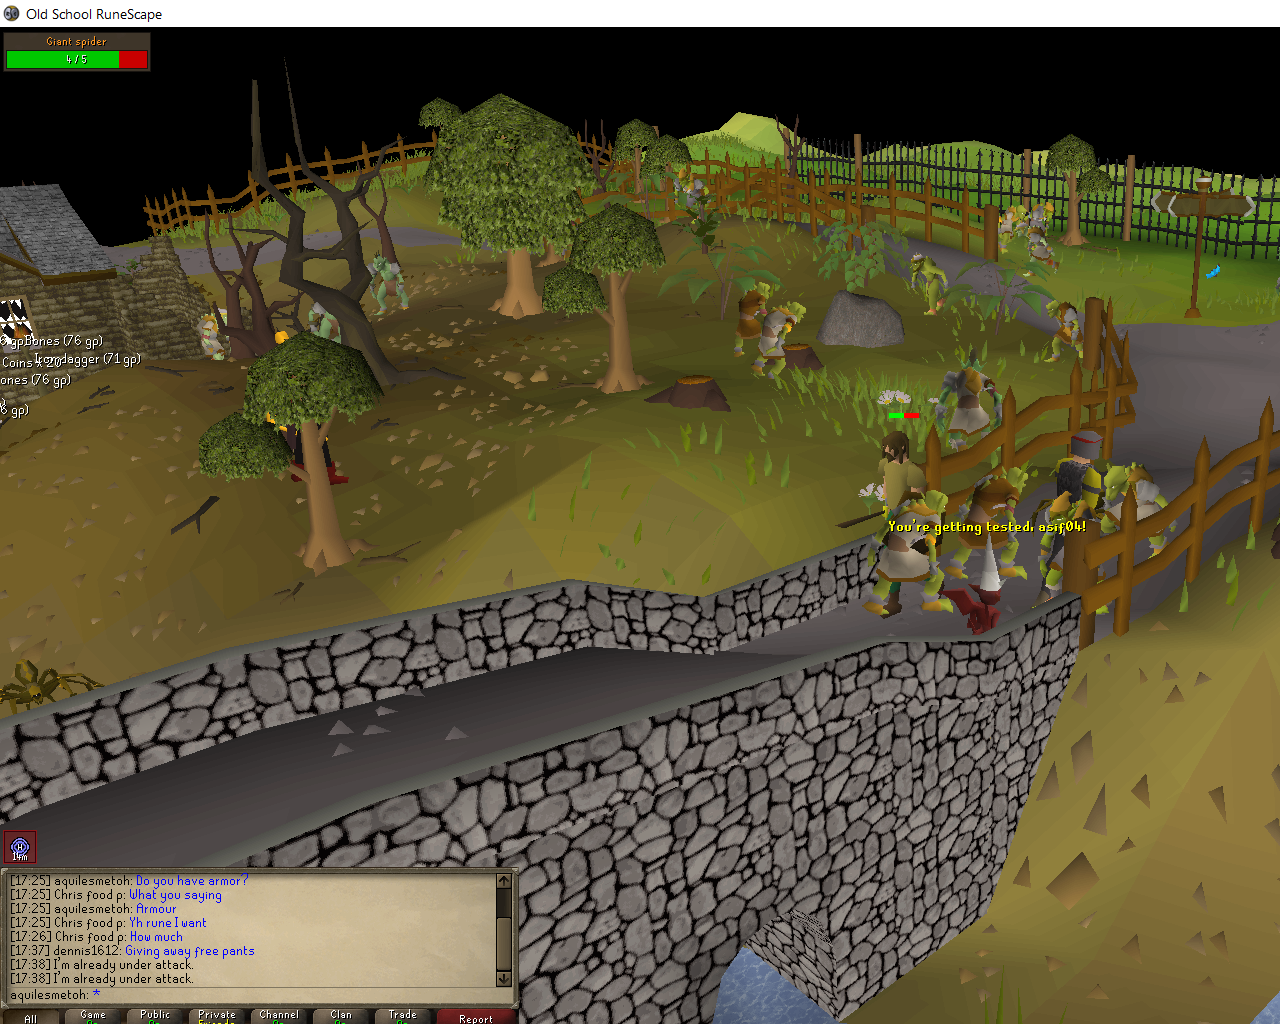Goblin: (863, 490, 957, 616), (1030, 487, 1114, 616), (944, 468, 1032, 582), (1097, 460, 1180, 559), (935, 352, 1007, 446), (750, 299, 805, 385), (734, 282, 772, 358), (364, 254, 412, 313), (907, 253, 952, 316), (1042, 300, 1085, 365), (192, 307, 231, 364), (308, 301, 346, 358)
